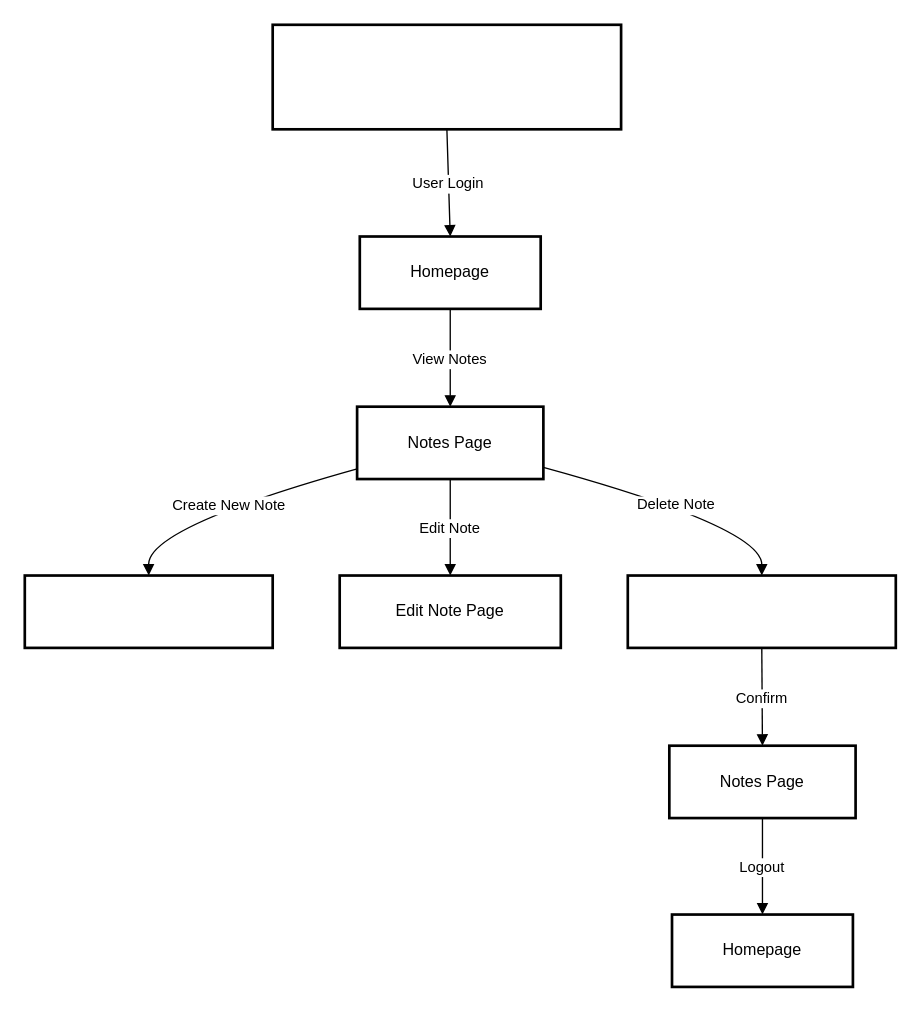
The diagram is 919 pixels wide and 1010 high, and some of its shapes have lost their labels. The centre of each missing label's shape, as x and y in pixels:
"AceNote: URL" belongs at [446,76].
"Confirmation Modal" belongs at [761,611].
"Create Note Page" belongs at [148,611].
